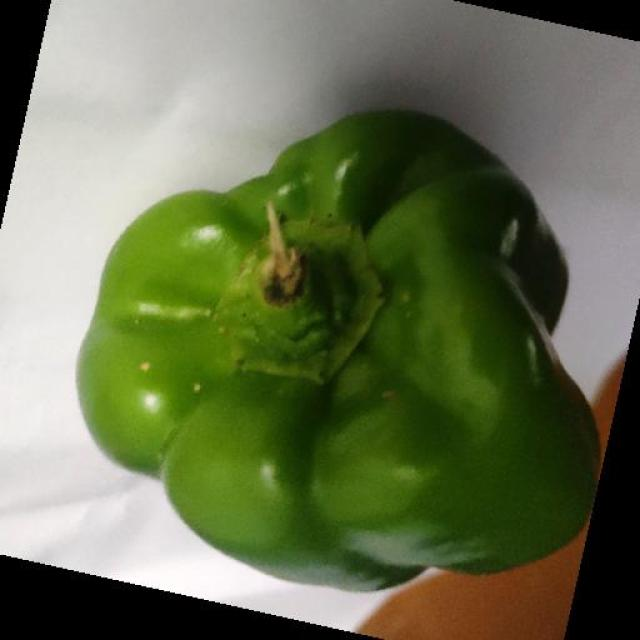Fresh_Capsicum: (96, 135, 594, 578)
